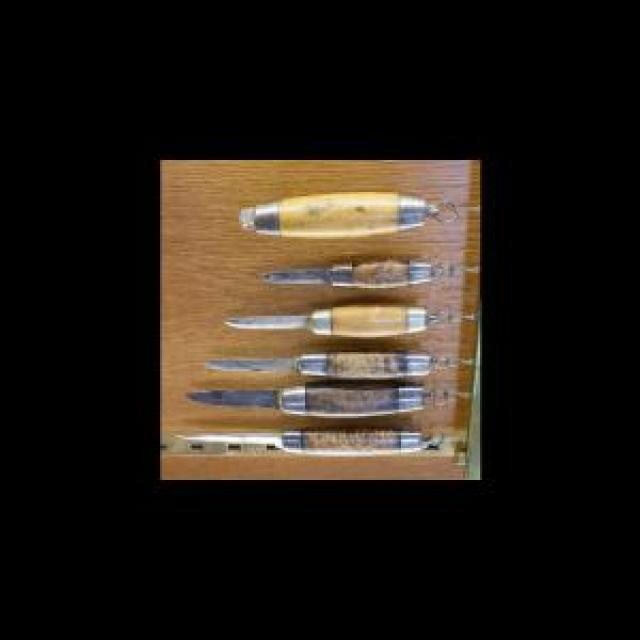knife: (256, 254, 467, 294), (220, 308, 462, 342), (196, 352, 442, 381), (175, 429, 437, 452)
